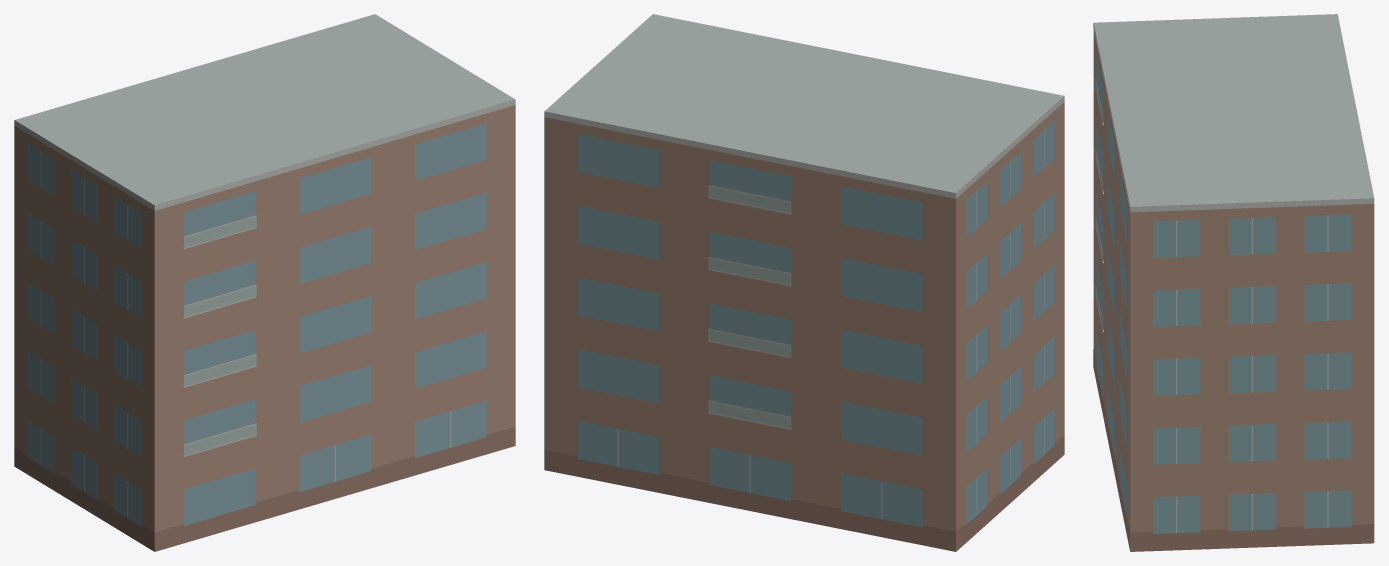
Rendered from survey-upis-32757659.glb.
3 renders of one model, left to right at view 1: azimuth 30°, elevation 25°; view 2: azimuth 150°, elevation 25°; view 3: azimuth 270°, elevation 25°, orthographic. The views are drawn at different scales.
Visible parts, largest first — view 1: survey-upis-32757659.tmp; view 2: survey-upis-32757659.tmp; view 3: survey-upis-32757659.tmp.
Boxes of the visible parts, left/top/right/bottom form: survey-upis-32757659.tmp: left=14, top=14, right=515, bottom=551; survey-upis-32757659.tmp: left=544, top=14, right=1064, bottom=551; survey-upis-32757659.tmp: left=1093, top=14, right=1374, bottom=551.
Size of the model in its own units: 18.29 by 15.25 by 11.26.
